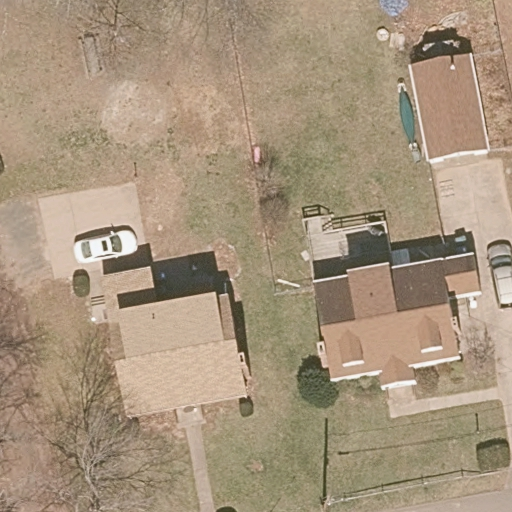DT: (320, 490, 359, 510)
